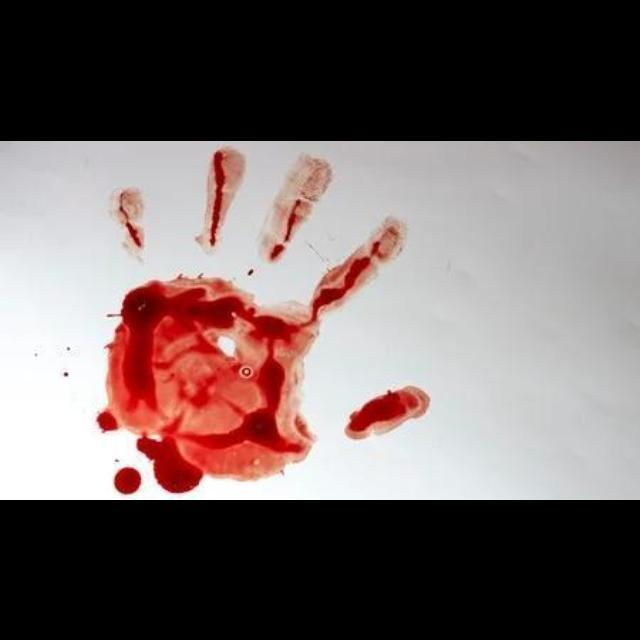blood: (97, 187, 431, 494), (259, 153, 333, 265), (195, 147, 245, 255)
